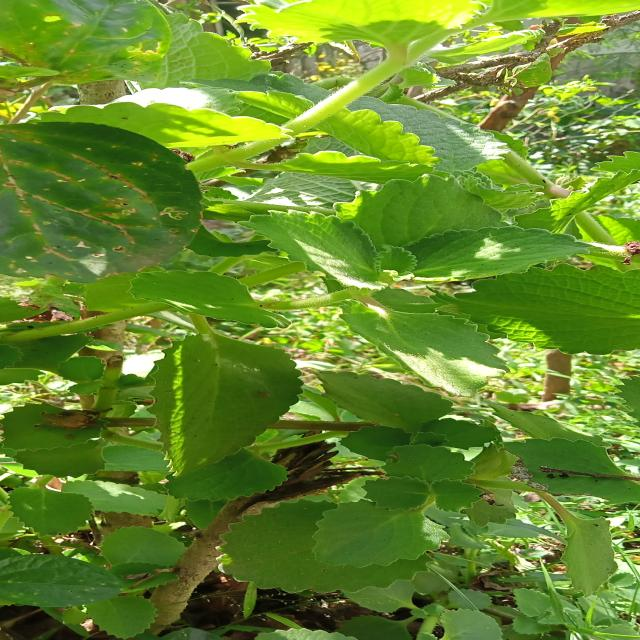Oregano: (268, 174, 578, 309), (203, 492, 445, 612), (309, 363, 520, 488)
